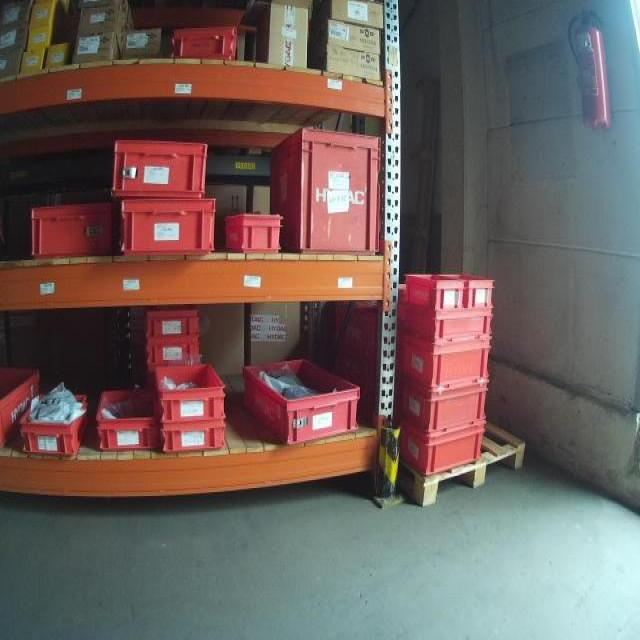pallet: (396, 404, 530, 509)
small_load_carrier: (268, 126, 384, 258), (244, 357, 360, 443), (29, 193, 121, 265), (115, 194, 220, 257), (108, 136, 210, 200), (330, 286, 397, 383), (395, 328, 496, 388), (398, 375, 494, 433), (150, 356, 231, 423), (16, 392, 94, 459), (94, 383, 159, 456), (399, 421, 486, 474), (395, 300, 495, 344), (2, 359, 44, 449), (169, 20, 242, 66), (406, 268, 469, 315), (223, 207, 285, 254), (159, 418, 230, 456), (142, 311, 204, 338), (143, 337, 203, 363), (464, 264, 496, 305)
